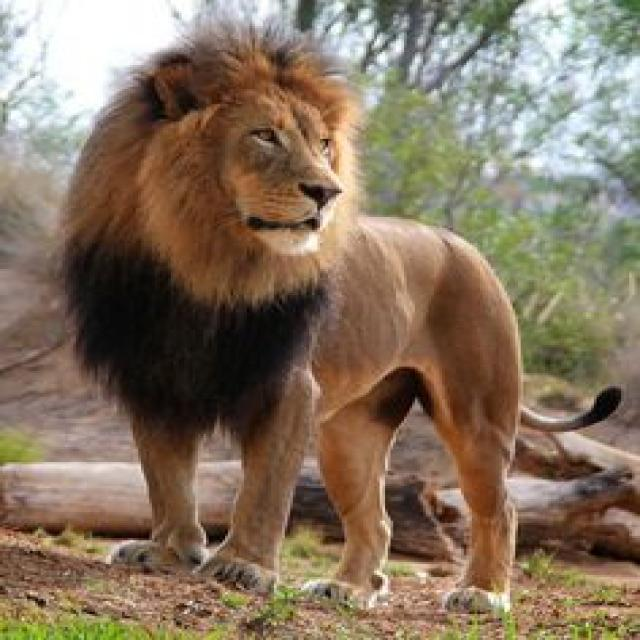lions: (22, 27, 640, 640)
